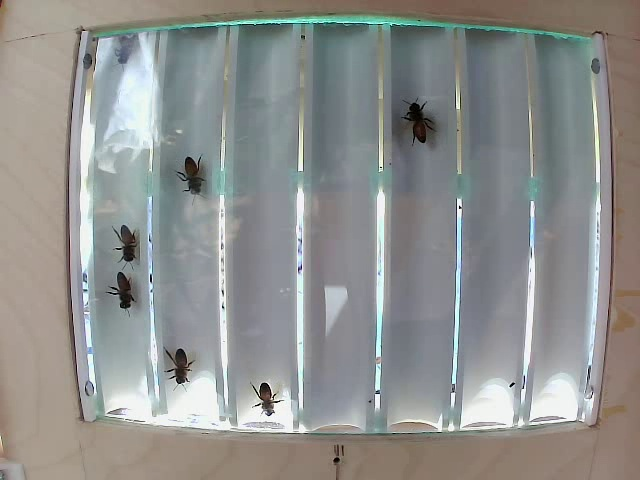bee: (168, 143, 217, 194), (396, 86, 439, 144), (244, 374, 290, 420), (109, 219, 140, 271), (101, 274, 139, 316), (165, 347, 196, 391)
